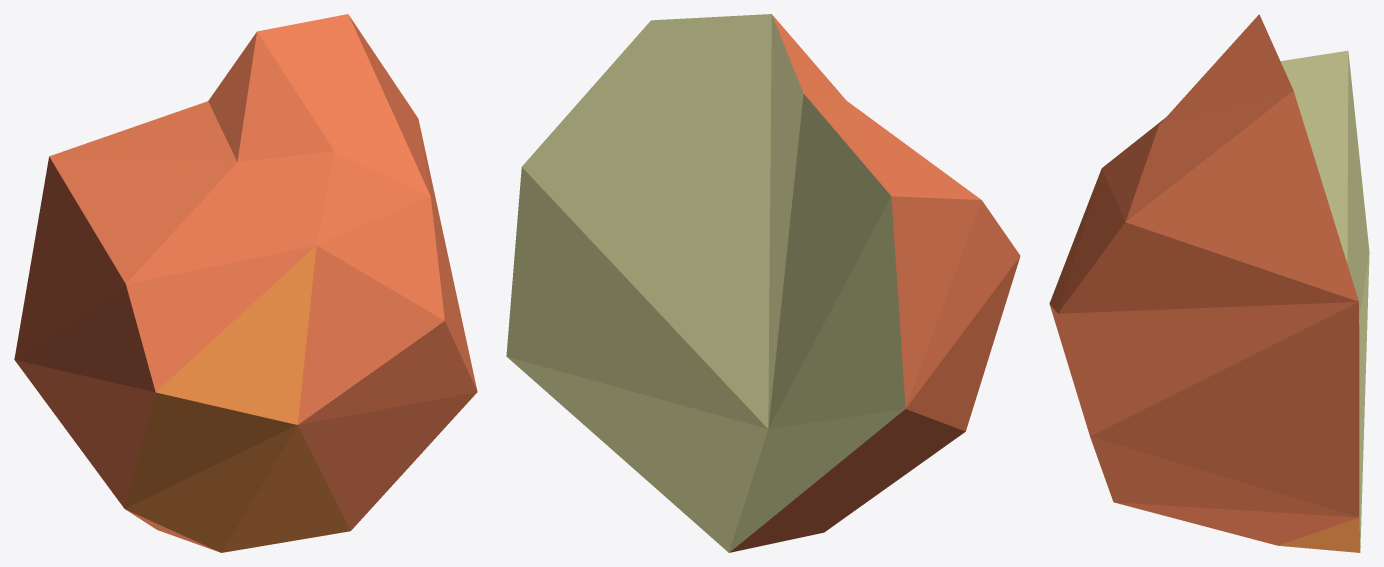
Rendered from Apple_0_7.fbx.
3 renders of one model, left to right at view 1: azimuth 30°, elevation 25°; view 2: azimuth 150°, elevation 25°; view 3: azimuth 270°, elevation 25°, orthographic. The views are drawn at different scales.
Parts seen in each view (by area): view 1: Apple_0_7; view 2: Apple_0_7; view 3: Apple_0_7.
Boxes of the visible parts, bbox=[...] form: Apple_0_7: bbox=[14, 14, 477, 552]; Apple_0_7: bbox=[506, 14, 1020, 552]; Apple_0_7: bbox=[1049, 14, 1369, 552].
Bounding box in the file's own units: 22.56 × 26.88 × 14.41.
